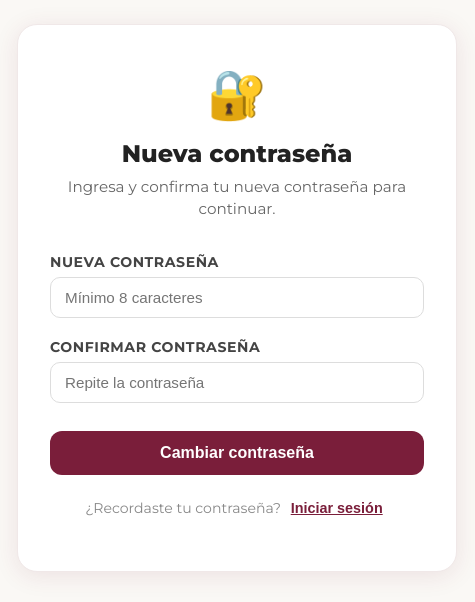
Test case: ResetPassword — ramas extra › muestra solo error de longitud cuando confirmar es igual pero password es corto
Type "short" into the password field labelled "Nueva contraseña" at (237, 298), box [50,277,424,318]
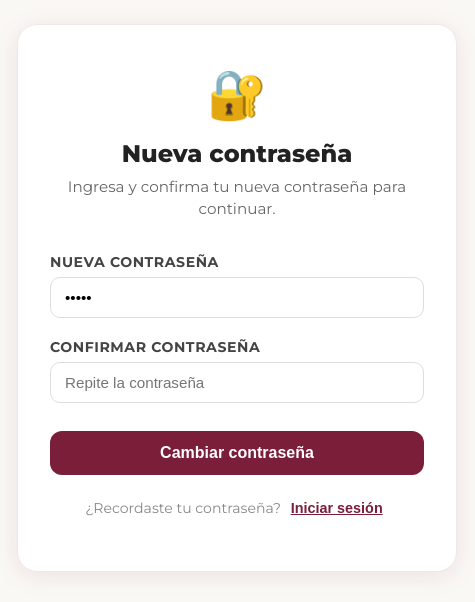
Type "short" into the password field labelled "Confirmar contraseña" at (237, 383), box [50,362,424,403]
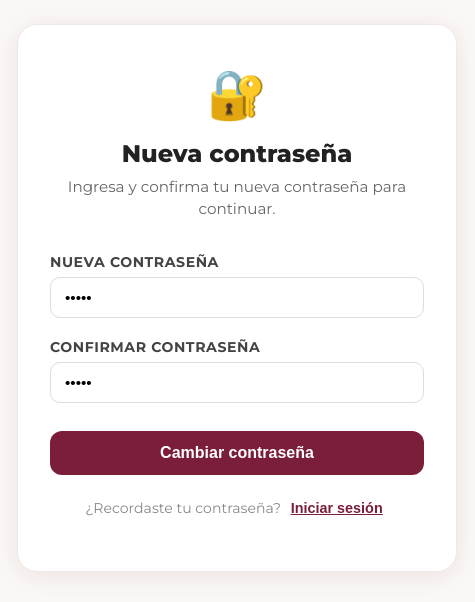
Click the button "Cambiar contraseña" at (237, 453), box [50,431,424,475]
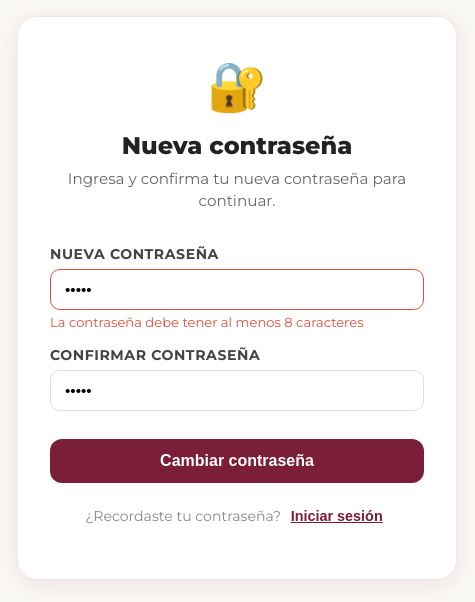
Now the text "La contraseña debe tener al menos 8 caracteres" is shown, box [50,314,364,330]
